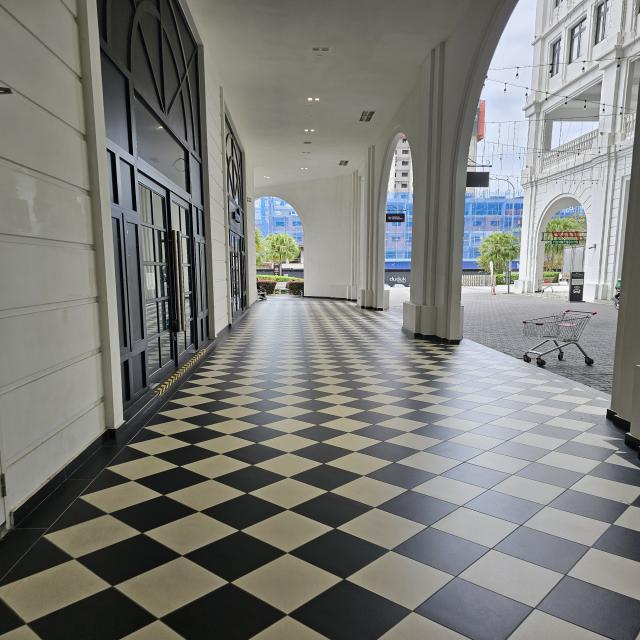door: (117, 178, 204, 386)
footpath: (180, 344, 600, 638)
wall: (401, 172, 473, 346)
